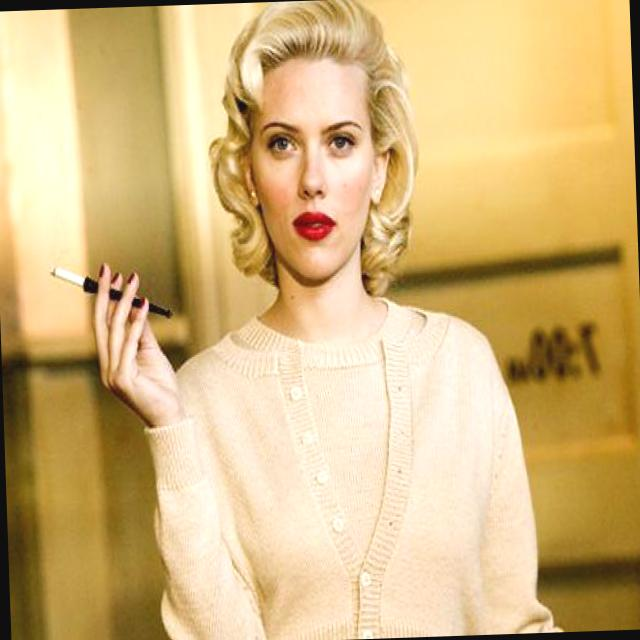smoke: (36, 222, 190, 338)
